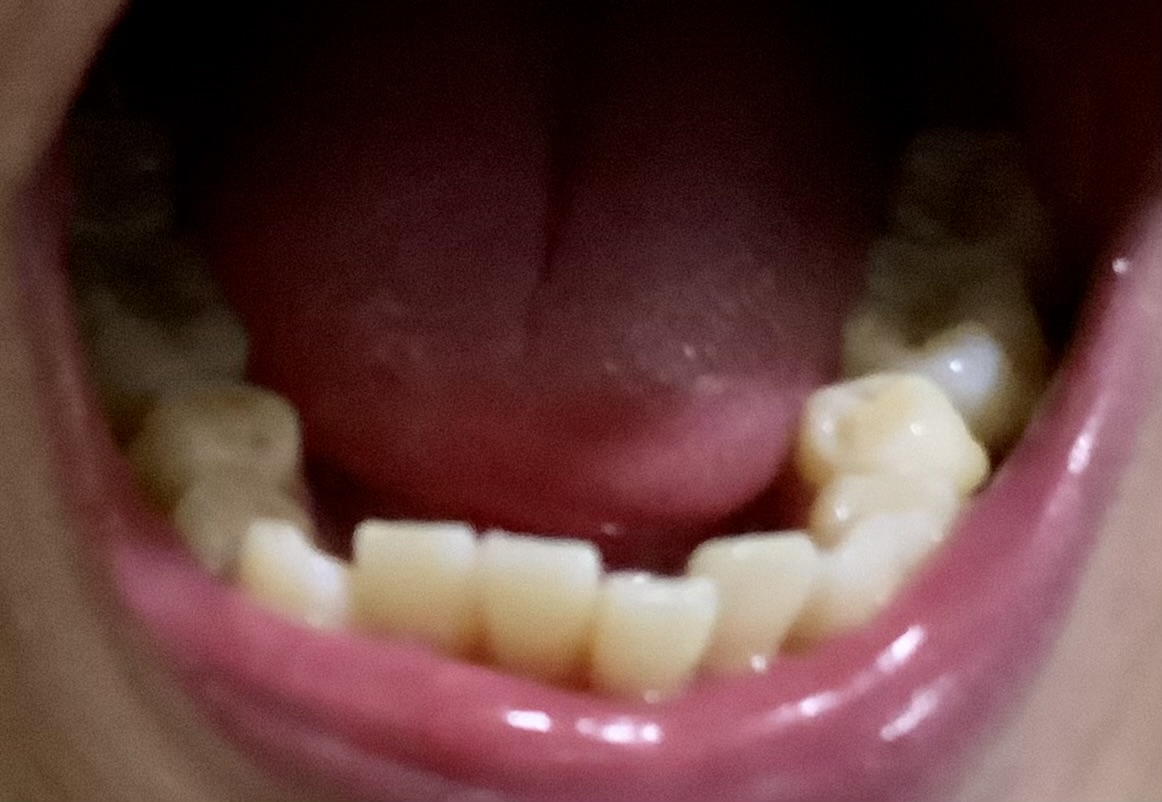teeth: (852, 258, 1032, 435), (812, 379, 975, 488), (127, 385, 292, 484), (594, 584, 712, 708), (488, 537, 586, 683), (361, 523, 469, 655), (711, 537, 800, 669), (241, 524, 351, 628), (176, 488, 311, 566), (813, 521, 897, 644)
